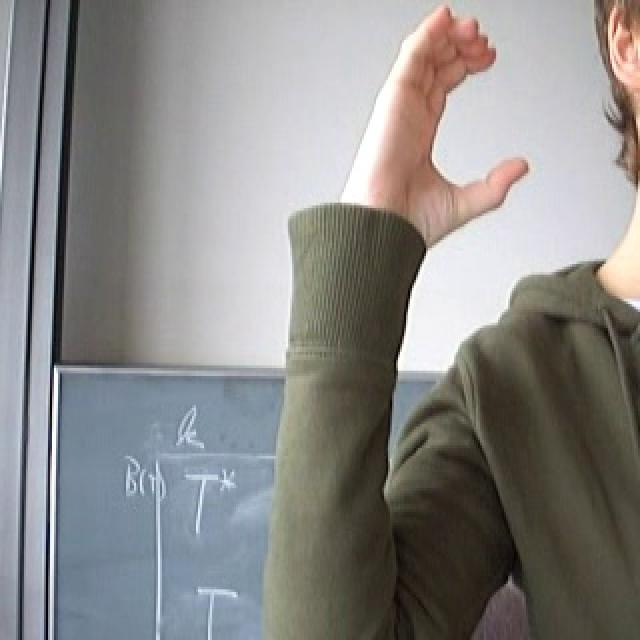C: (326, 0, 541, 273)
